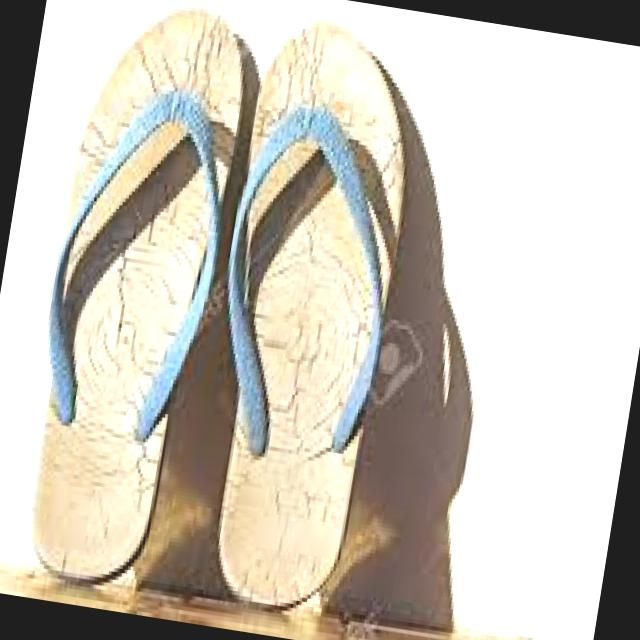giay: (33, 9, 244, 583), (220, 23, 406, 608)
